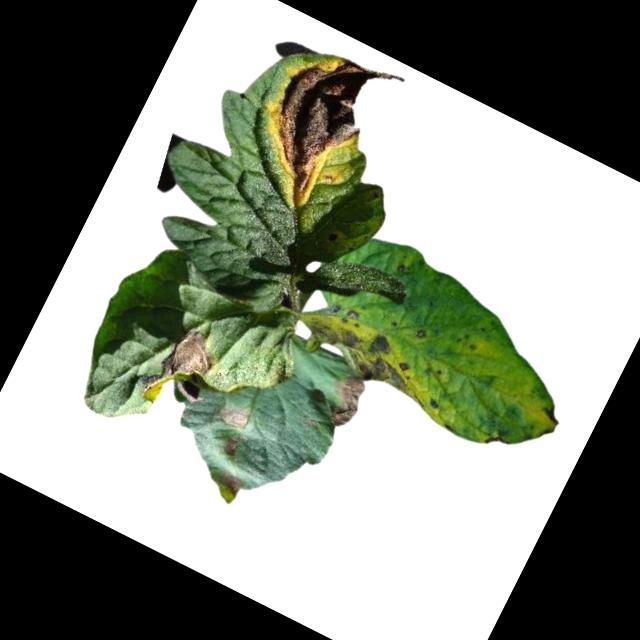Early_blight: (238, 29, 408, 220), (292, 287, 448, 405), (137, 317, 225, 421), (321, 370, 370, 431), (533, 402, 565, 438), (214, 468, 243, 499), (223, 405, 253, 434), (221, 433, 243, 457), (297, 412, 321, 433)
